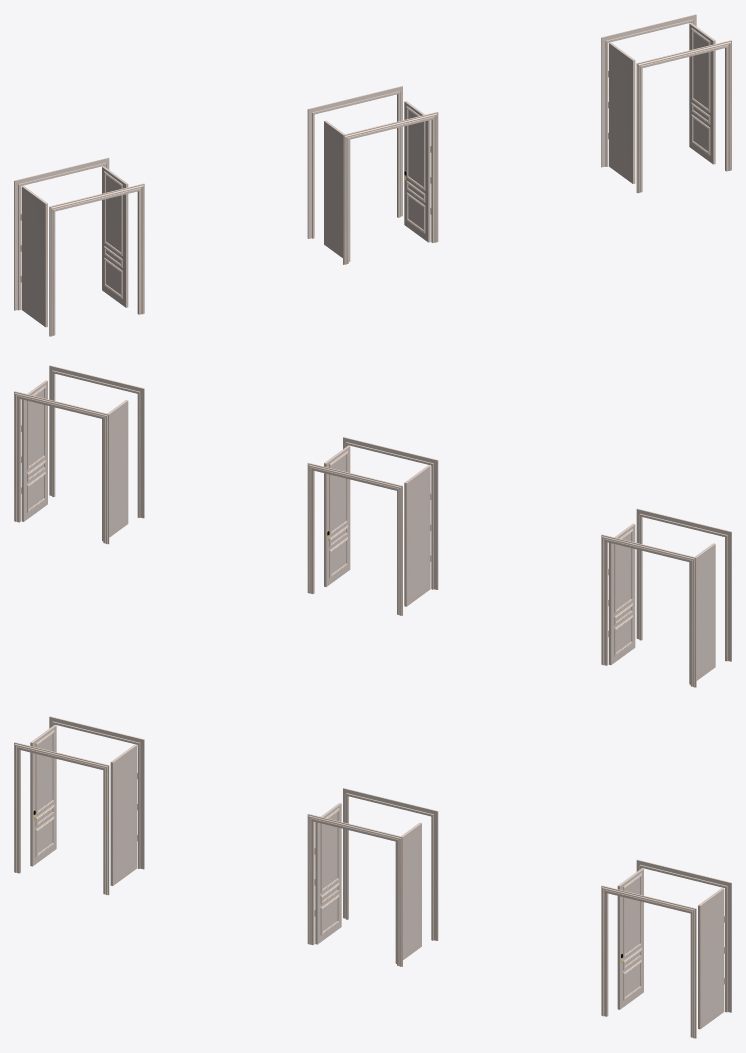
File: DoorMain.fbx
The picture shows the model from 3 angles, top to bottom: view 1: azimuth 30°, elevation 25°; view 2: azimuth 150°, elevation 25°; view 3: azimuth 330°, elevation 25°; orthographic projection.
Visible parts, largest first — view 1: DoorMain; view 2: DoorMain; view 3: DoorMain.
Part boxes in pixels (x1,y1,x2,y2): DoorMain: (14,14,731,336); DoorMain: (14,365,731,687); DoorMain: (14,716,731,1038).
Size of the model in its own units: 1673 by 304 by 156.
1 material, 1 textured.
